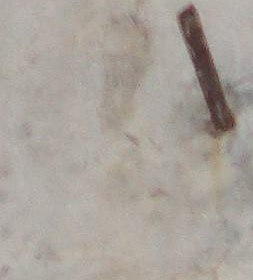Exposed reinforcement: (174, 1, 237, 132)
